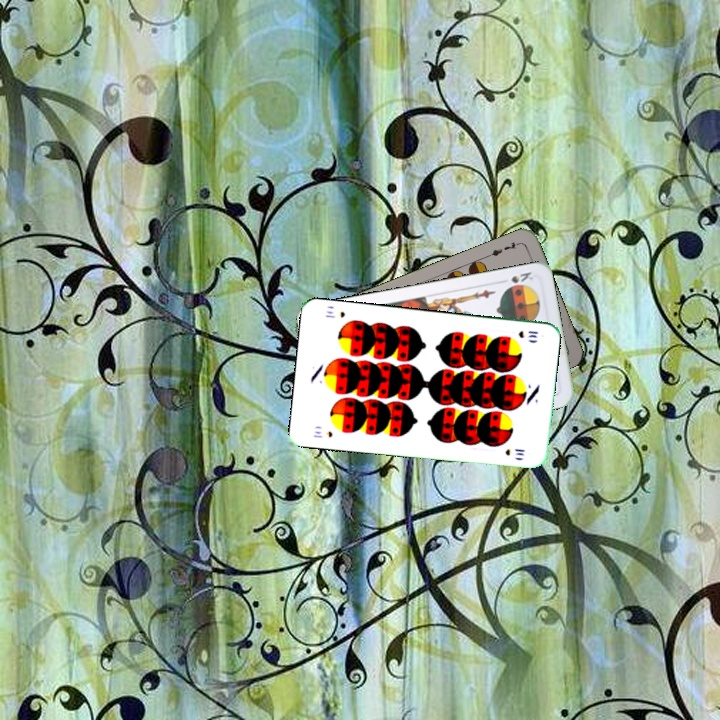E7: (484, 238, 523, 259)
S10: (514, 327, 540, 340), (309, 427, 335, 440)
SK: (496, 268, 535, 291)
